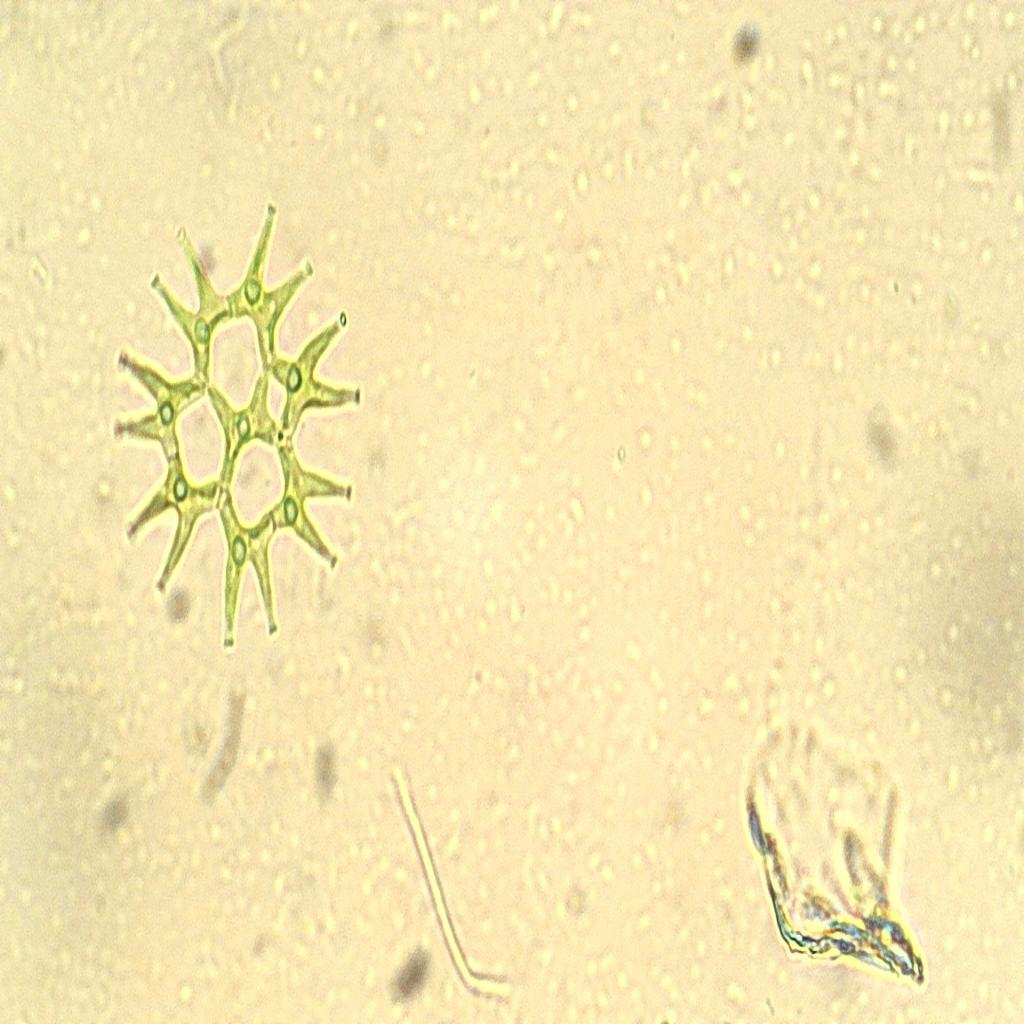Pediastrum_75T: (102, 184, 378, 676)
